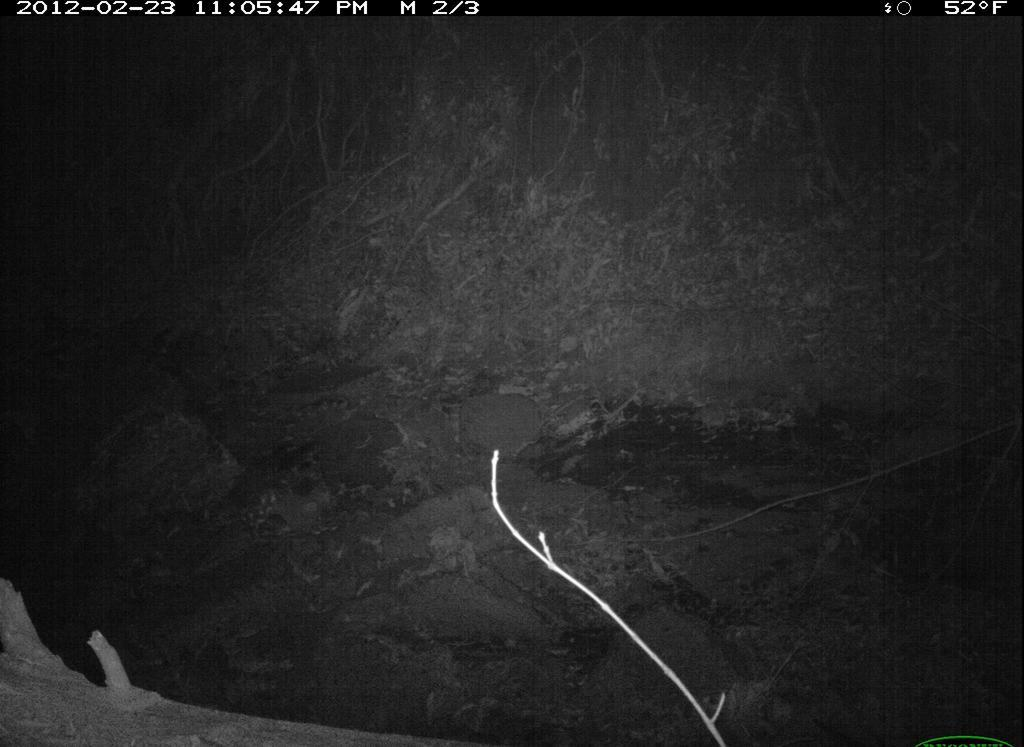opossum: (860, 415, 1011, 493)
